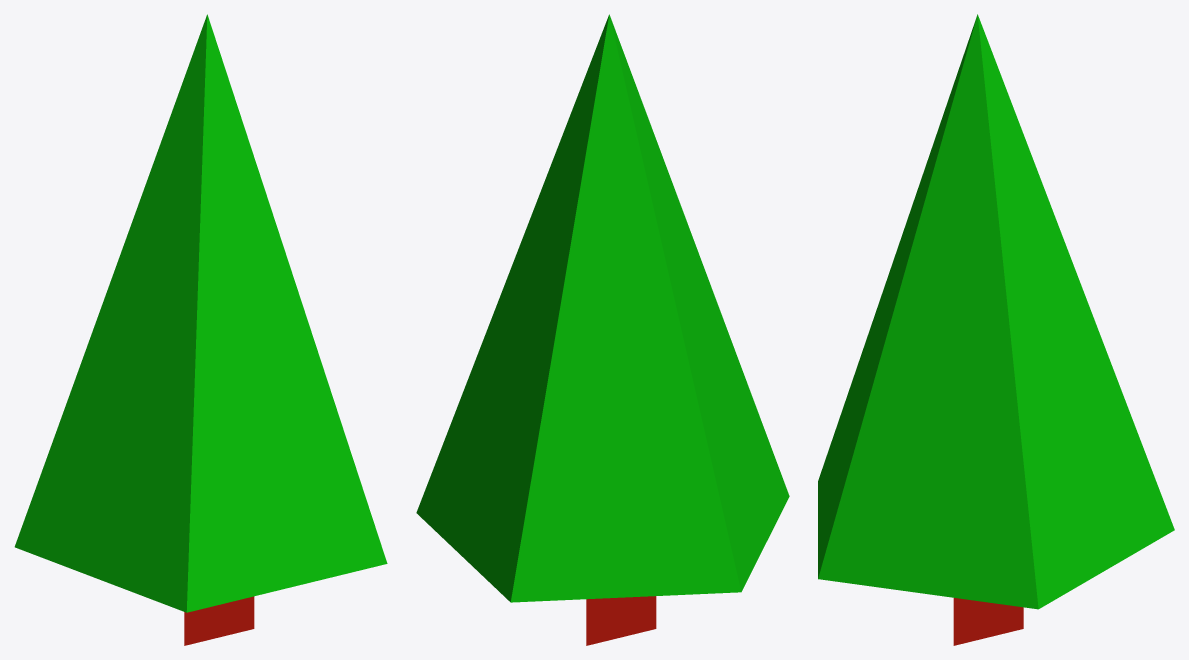
File: pin.obj
The picture shows the model from 3 angles, left to right: view 1: azimuth 30°, elevation 25°; view 2: azimuth 150°, elevation 25°; view 3: azimuth 270°, elevation 25°; orthographic projection.
Visible parts, largest first — view 1: Cone, Cylinder; view 2: Cone, Cylinder; view 3: Cone, Cylinder.
Part boxes in pixels (<box>): Cone: <box>14,14,387,612</box>; Cylinder: <box>184,596,254,645</box>; Cone: <box>416,14,789,602</box>; Cylinder: <box>586,596,656,645</box>; Cone: <box>818,14,1174,609</box>; Cylinder: <box>953,598,1023,645</box>.
Bounding box in the file's own units: 2.19 × 3.96 × 2.08.
